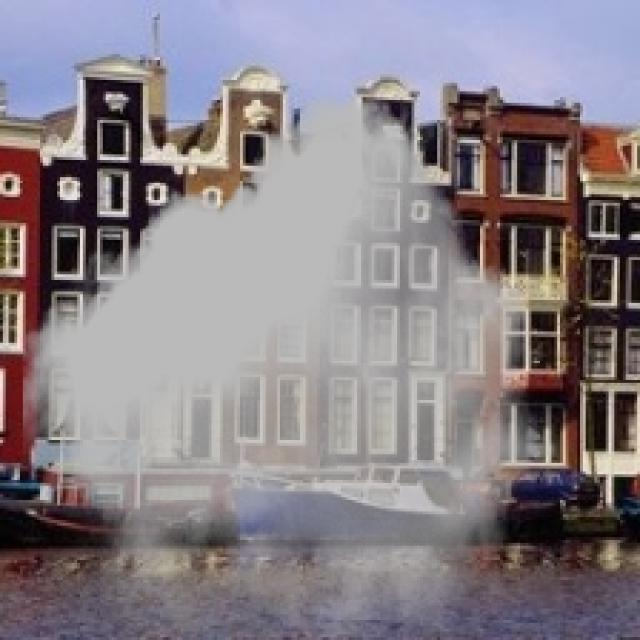Smoke: (22, 97, 538, 637)
